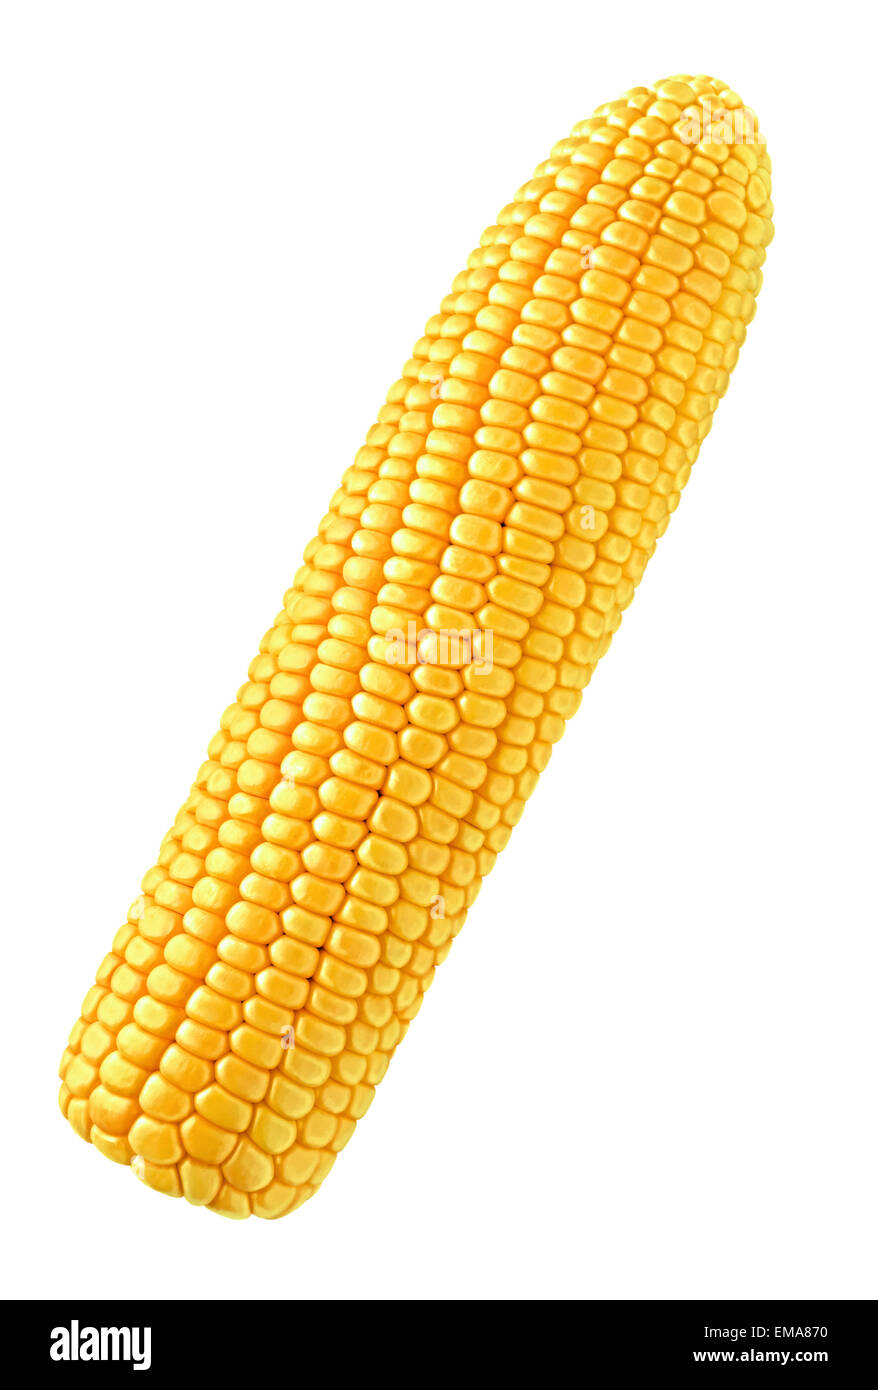corn: (106, 116, 774, 1224)
